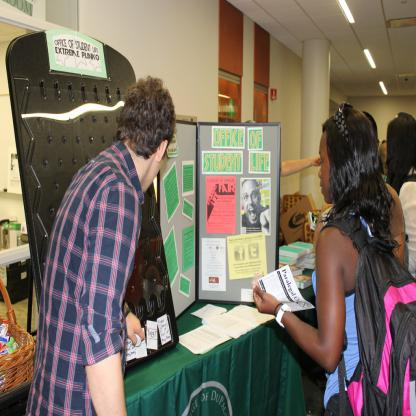book: (156, 119, 280, 322), (281, 235, 318, 290)
